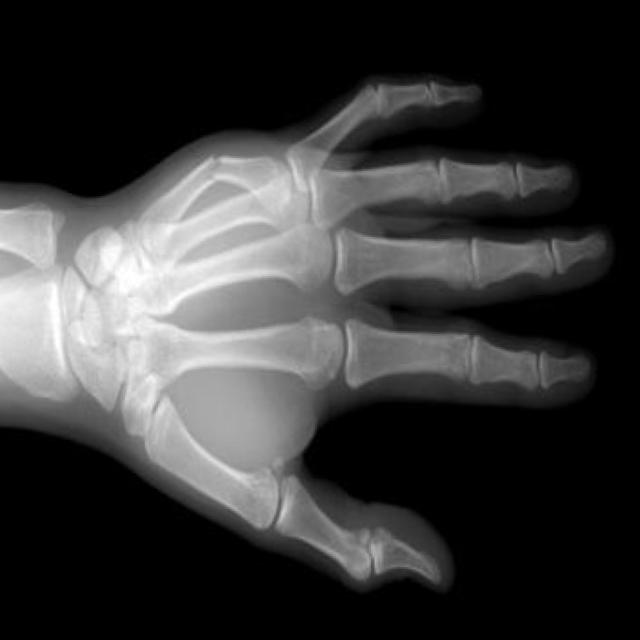fracture: (197, 140, 231, 199)
